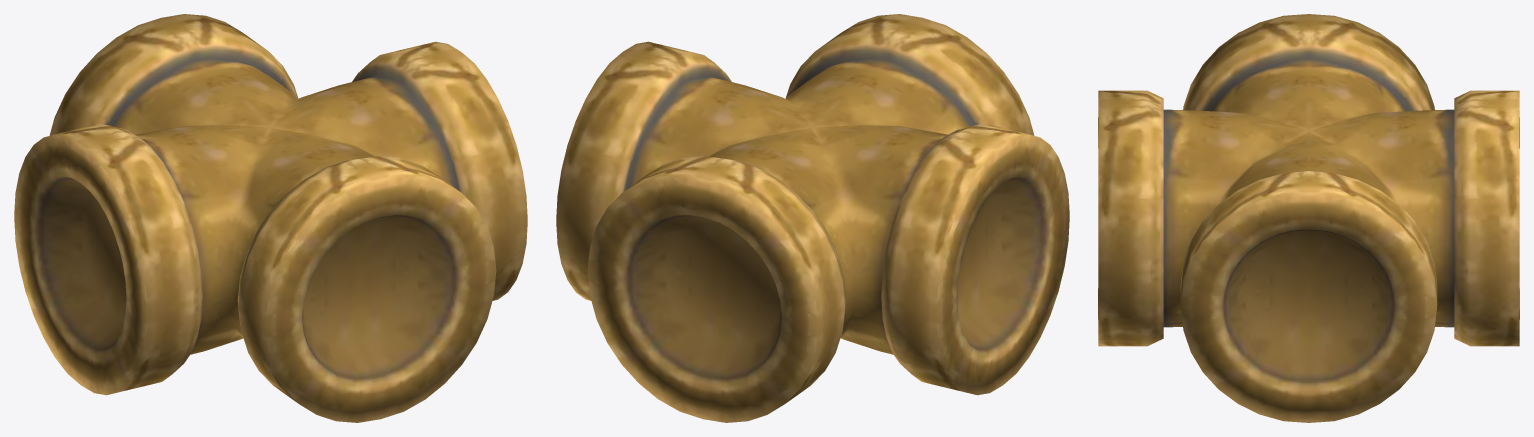
3 views of the same model, side by side, from view 1: azimuth 30°, elevation 25°; view 2: azimuth 150°, elevation 25°; view 3: azimuth 270°, elevation 25° (orthographic). The views are drawn at different scales.
Parts seen in each view (by area): view 1: SM_Dragonkin_Pipes_02_Cross_LOD0; view 2: SM_Dragonkin_Pipes_02_Cross_LOD0; view 3: SM_Dragonkin_Pipes_02_Cross_LOD0.
Part boxes in pixels (bbox=[...]): SM_Dragonkin_Pipes_02_Cross_LOD0: bbox=[14, 14, 527, 422]; SM_Dragonkin_Pipes_02_Cross_LOD0: bbox=[556, 14, 1069, 422]; SM_Dragonkin_Pipes_02_Cross_LOD0: bbox=[1098, 14, 1519, 422].
Size of the model in its own units: 0.8658 by 0.5234 by 0.8658.
1 material, 1 textured.
